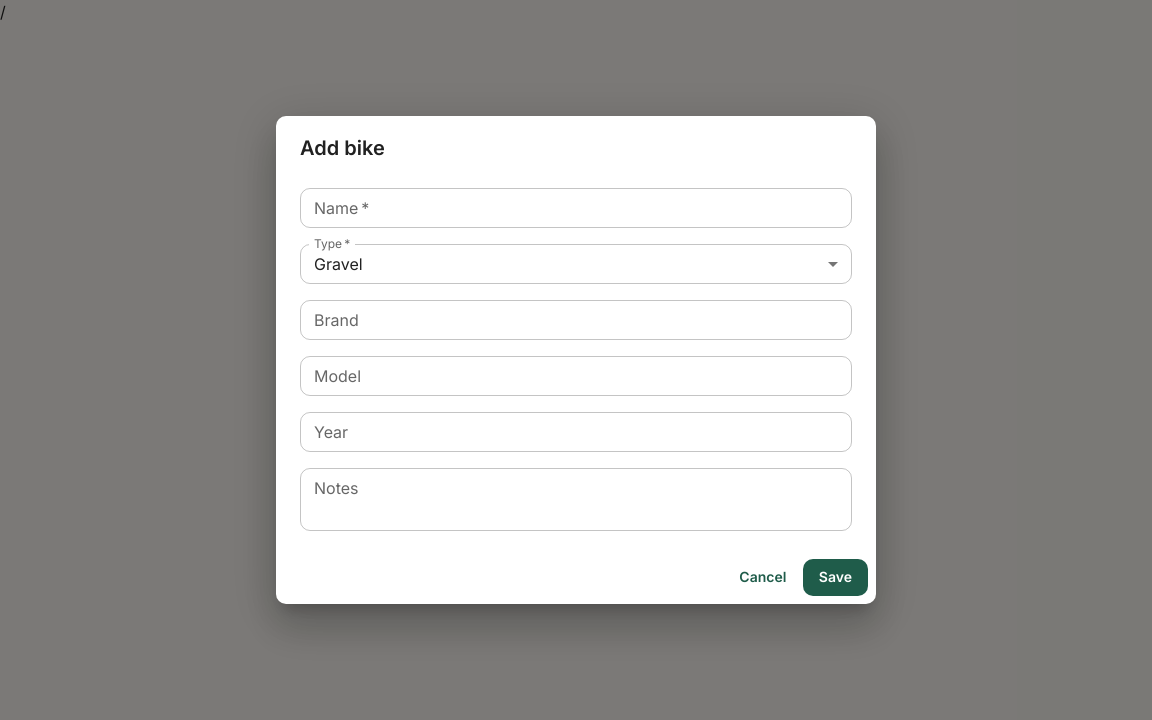
BikeFormDialog › server validation errors show under the fields and nothing is reported as saved
The width and height of the screenshot is (1152, 720).
Click the button "Save".
click(835, 578)  # box [803,559,868,596]
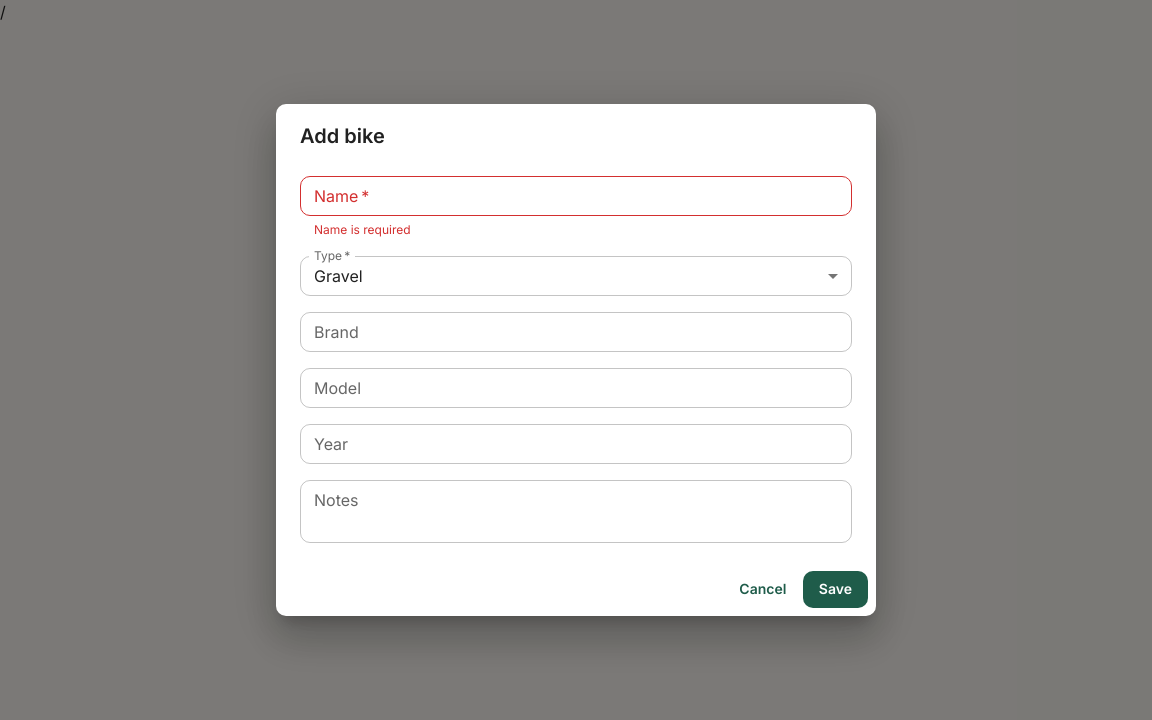
Expected: the text "Name is required" is shown, [314,222,411,237]
